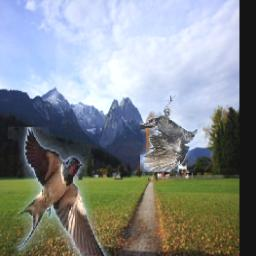Crow: (141, 91, 199, 172)
Swallow: (8, 127, 111, 256)
